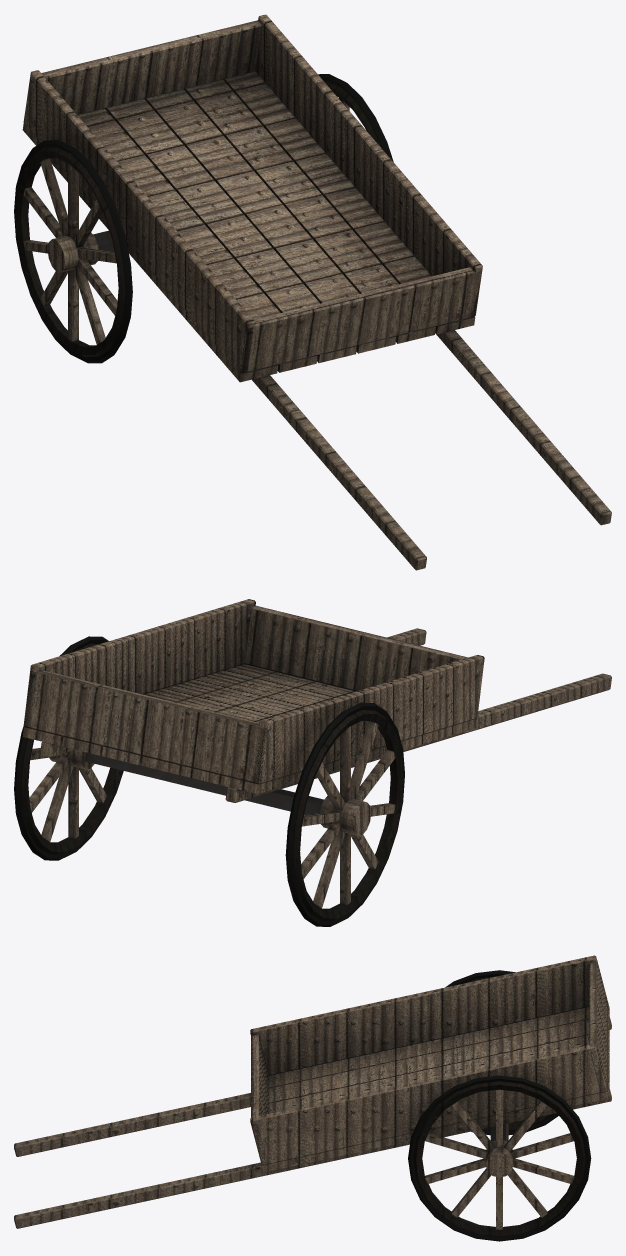
The model's file is hand_cart.glb.
3 views of the same model, one above another, from view 1: azimuth 30°, elevation 25°; view 2: azimuth 150°, elevation 25°; view 3: azimuth 270°, elevation 25° (orthographic). The views are drawn at different scales.
Visible parts, largest first — view 1: hand_cart; view 2: hand_cart; view 3: hand_cart.
Boxes of the visible parts, x1,y1,x2,y2 form: hand_cart: (14,14,611,570); hand_cart: (14,599,611,926); hand_cart: (14,955,611,1241).
Bounding box in the file's own units: 1.42 × 1.06 × 3.03.
Materials: 1 (1 with a texture image).
